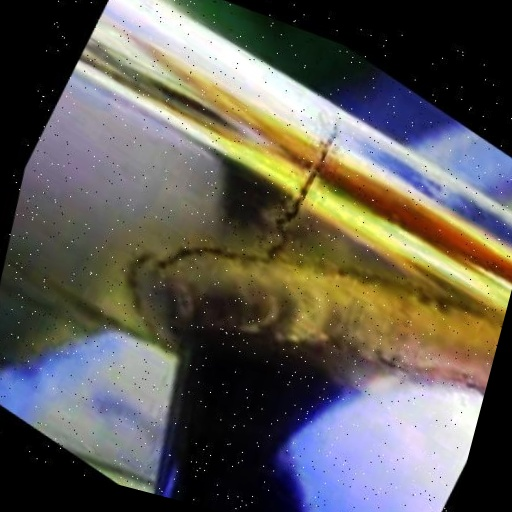crack: (237, 87, 371, 289)
